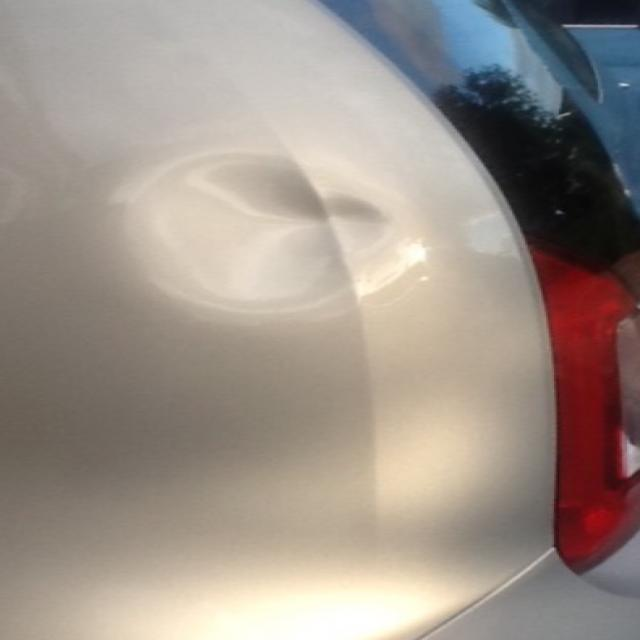dents: (135, 141, 472, 323)
